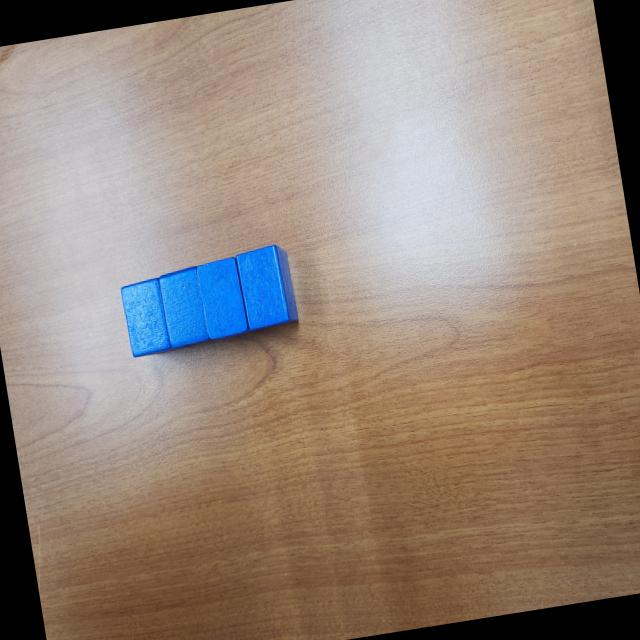blue: (234, 244, 300, 335), (196, 256, 251, 344), (157, 265, 211, 352), (120, 278, 172, 359)
